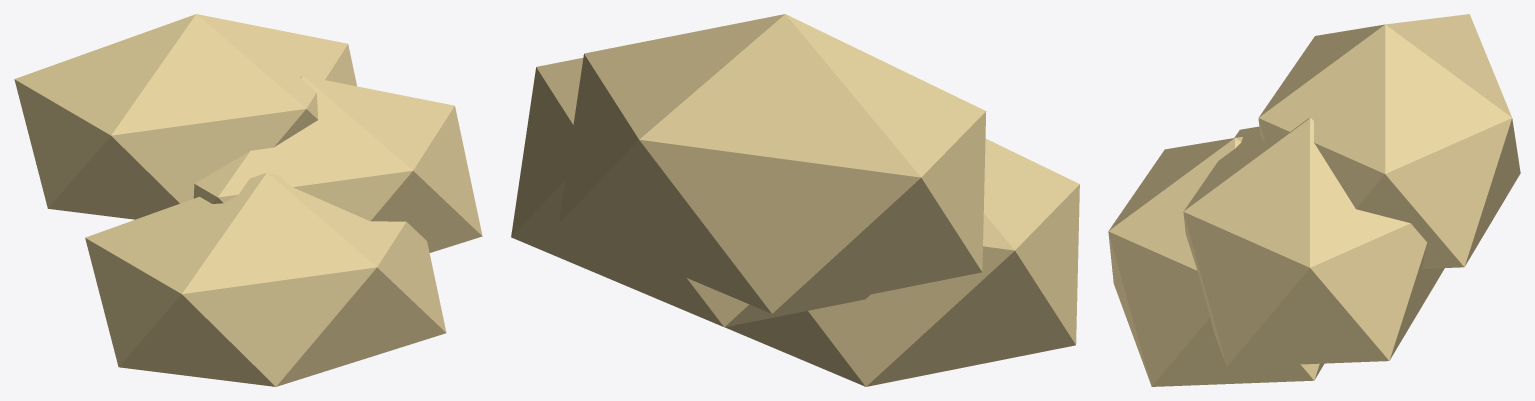
The model's file is item_031_emmer_seed_m.glb.
3 views of the same model, side by side, from view 1: azimuth 30°, elevation 25°; view 2: azimuth 150°, elevation 25°; view 3: azimuth 270°, elevation 25° (orthographic). The views are drawn at different scales.
Parts seen in each view (by area): view 1: item_031_emmer_seed_m; view 2: item_031_emmer_seed_m; view 3: item_031_emmer_seed_m.
Boxes of the visible parts, x1,y1,x2,y2 form: item_031_emmer_seed_m: [14, 14, 482, 386]; item_031_emmer_seed_m: [511, 14, 1079, 386]; item_031_emmer_seed_m: [1108, 14, 1520, 386].
Size of the model in its own units: 0.3644 by 0.296 by 0.3296.
